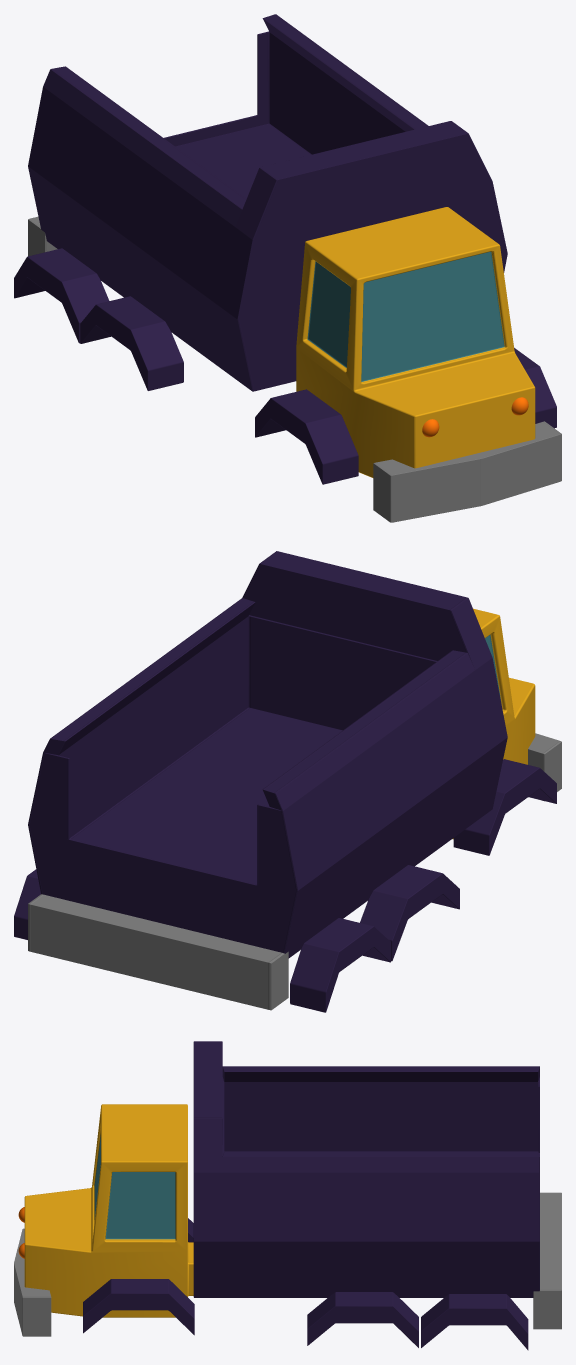
The model's file is Main Truck.fbx.
The picture shows the model from 3 angles, top to bottom: view 1: azimuth 30°, elevation 25°; view 2: azimuth 150°, elevation 25°; view 3: azimuth 270°, elevation 25°; orthographic projection. The views are drawn at different scales.
Visible parts, largest first — view 1: Cube.071; view 2: Cube.071; view 3: Cube.071.
Boxes of the visible parts, bbox=[...] form: Cube.071: bbox=[14, 14, 561, 522]; Cube.071: bbox=[14, 551, 561, 1012]; Cube.071: bbox=[14, 1041, 561, 1350].
Size of the model in its own units: 330 by 272 by 608.
